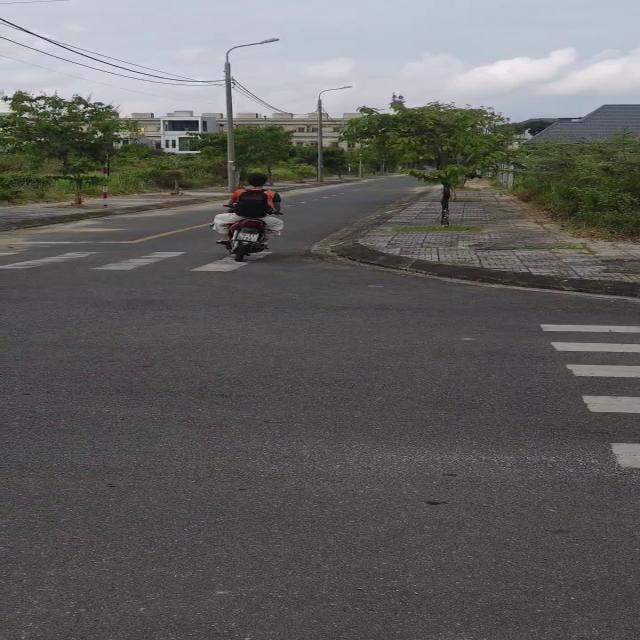no_helmet: (246, 170, 270, 199)
